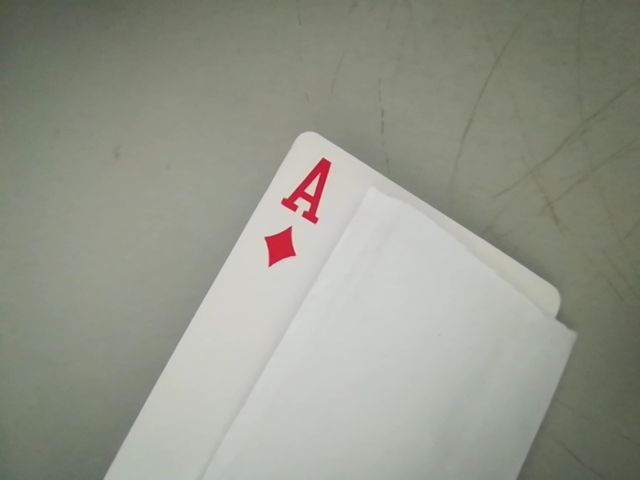fk a: (260, 149, 344, 271)
